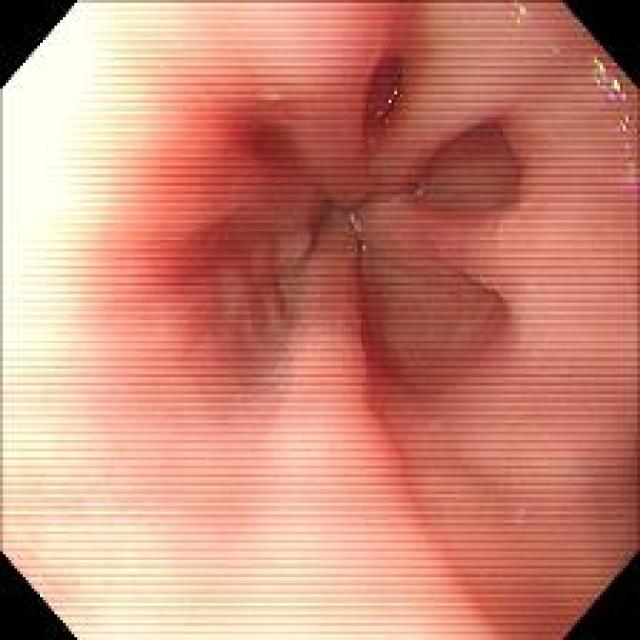blur: (154, 6, 604, 541)
color misalignment: (365, 49, 414, 135), (581, 45, 629, 106), (611, 108, 639, 190), (374, 81, 404, 124), (449, 112, 494, 139), (508, 0, 540, 36), (358, 238, 382, 266), (340, 210, 365, 236), (545, 36, 565, 66)
saturation: (0, 2, 179, 615), (61, 542, 459, 638)
